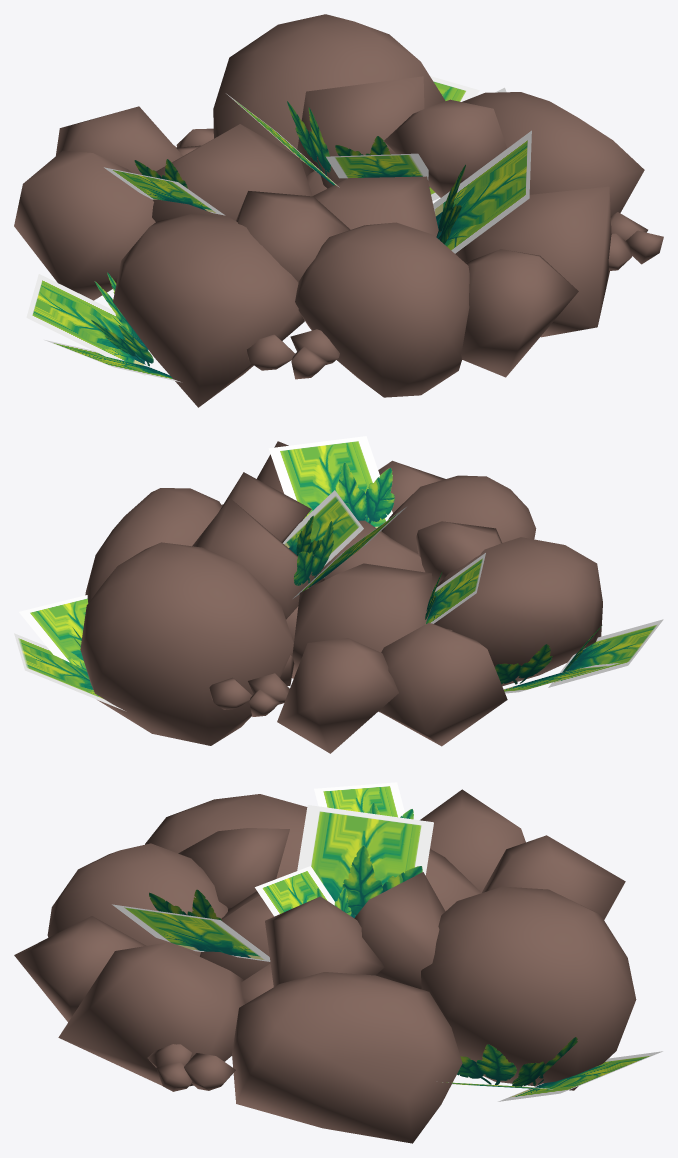
The model's file is SM_LargeRockRubble.fbx.
The picture shows the model from 3 angles, top to bottom: view 1: azimuth 30°, elevation 25°; view 2: azimuth 150°, elevation 25°; view 3: azimuth 270°, elevation 25°; orthographic projection. The views are drawn at different scales.
Visible parts, largest first — view 1: LargeRockRubble; view 2: LargeRockRubble; view 3: LargeRockRubble.
Boxes of the visible parts, left/top/right/bottom form: LargeRockRubble: left=14, top=14, right=663, bottom=407; LargeRockRubble: left=14, top=436, right=663, bottom=753; LargeRockRubble: left=14, top=782, right=662, bottom=1143.
Bounding box in the file's own units: 541 × 185 × 531.
